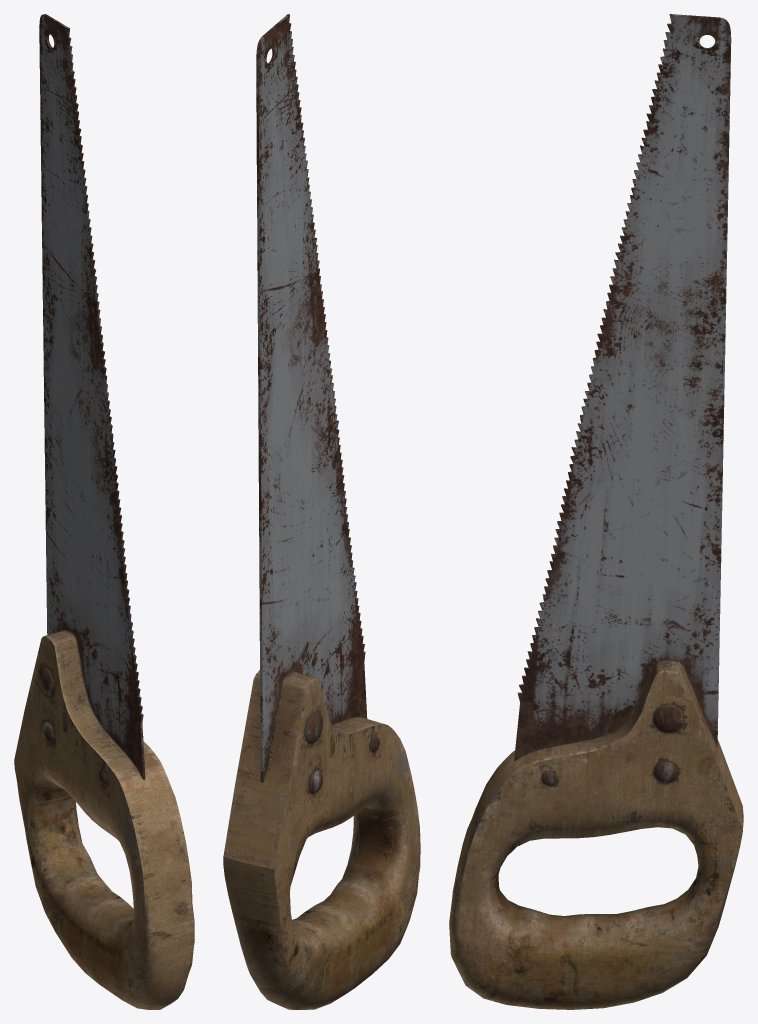
Rendered from saw.glb.
3 views of the same model, side by side, from view 1: azimuth 30°, elevation 25°; view 2: azimuth 150°, elevation 25°; view 3: azimuth 270°, elevation 25° (orthographic). The views are drawn at different scales.
Parts seen in each view (by area): view 1: handsaw_wood; view 2: handsaw_wood; view 3: handsaw_wood.
Part boxes in pixels (bbox=[...]): handsaw_wood: bbox=[14, 14, 194, 1009]; handsaw_wood: bbox=[223, 14, 420, 1009]; handsaw_wood: bbox=[449, 14, 743, 1009].
Bounding box in the file's own units: 0.0429 × 0.66 × 0.1779.
1 material, 1 textured.
